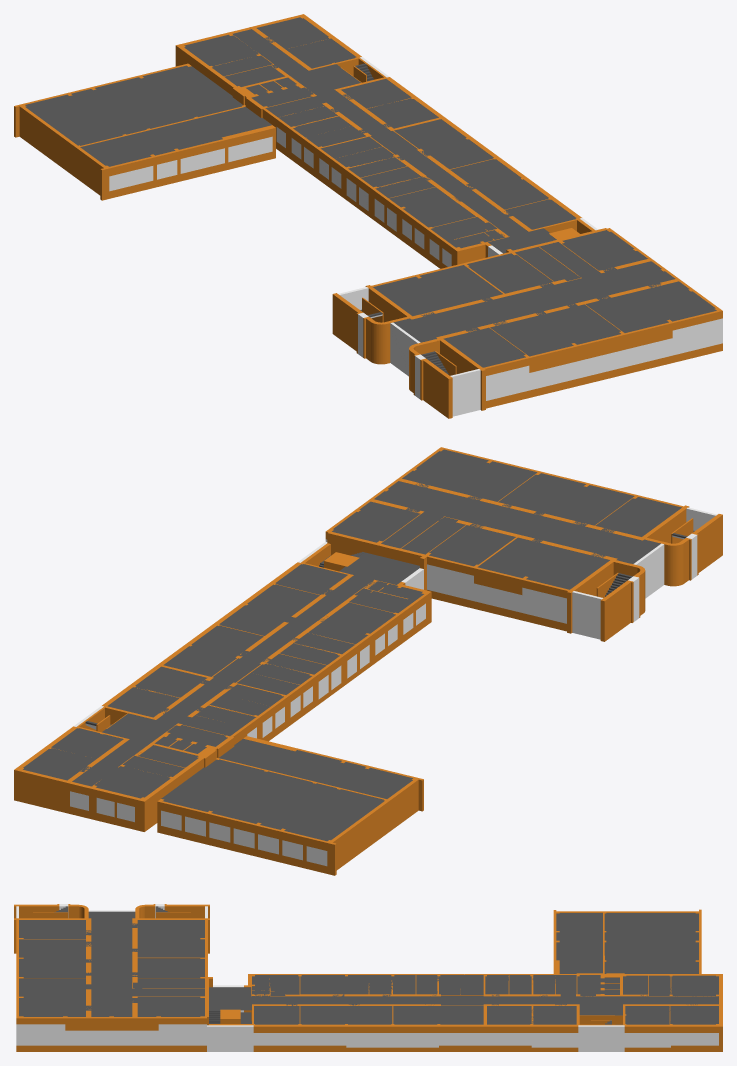
3 views of the same model, one above another, from view 1: azimuth 30°, elevation 25°; view 2: azimuth 150°, elevation 25°; view 3: azimuth 270°, elevation 25° (orthographic). The views are drawn at different scales.
Visible parts, largest first — view 1: 0.030, 2.574, 2.576, 2.228, 2.212, 1.016, 1.020, 2.215, 2.214, 1.003, 2.009, 2.567 (+11 smaller); view 2: 0.030, 2.574, 2.576, 2.228, 2.176, 2.214, 2.575, 1.019, 2.213, 1.051, 2.212, 1.001 (+7 smaller); view 3: 0.030, 2.574, 2.576, 1.024, 1.029, 1.026, 1.002, 2.575, 1.028, 1.027, 1.035, 1.025 (+38 smaller).
Part boxes in pixels (box(x1,y1,x2,y2)): 0.030: box(184, 17, 576, 248); 2.574: box(373, 230, 716, 367); 2.576: box(25, 65, 271, 166); 2.228: box(14, 104, 103, 195); 2.212: box(420, 358, 452, 418); 1.016: box(672, 319, 720, 355); 1.020: box(450, 369, 480, 416); 2.215: box(363, 316, 395, 364); 2.214: box(332, 293, 362, 353); 1.003: box(486, 365, 529, 400); 2.009: box(436, 337, 485, 410); 2.567: box(390, 322, 420, 376); 0.030: box(23, 564, 423, 798); 2.574: box(332, 449, 681, 589); 2.576: box(161, 739, 412, 841); 2.228: box(327, 781, 415, 875); 2.176: box(14, 767, 71, 813); 2.214: box(600, 580, 633, 641); 2.575: box(339, 552, 419, 584); 1.019: box(572, 591, 602, 639); 2.213: box(659, 537, 691, 586); 1.051: box(427, 564, 473, 600); 2.212: box(692, 514, 722, 575); 1.001: box(522, 587, 566, 623); 0.030: box(252, 975, 718, 1024); 2.574: box(19, 911, 204, 1016); 2.576: box(556, 913, 698, 973); 1.024: box(578, 1025, 624, 1051); 1.029: box(207, 1025, 253, 1051); 1.026: box(16, 1024, 65, 1045); 1.002: box(158, 1024, 206, 1045); 2.575: box(209, 987, 251, 1010); 1.028: box(111, 1030, 158, 1045); 1.027: box(65, 1030, 111, 1045); 1.035: box(531, 1033, 578, 1047); 1.025: box(624, 1033, 670, 1047).
Size of the model in its own units: 38.05 by 91.62 by 6.24.
